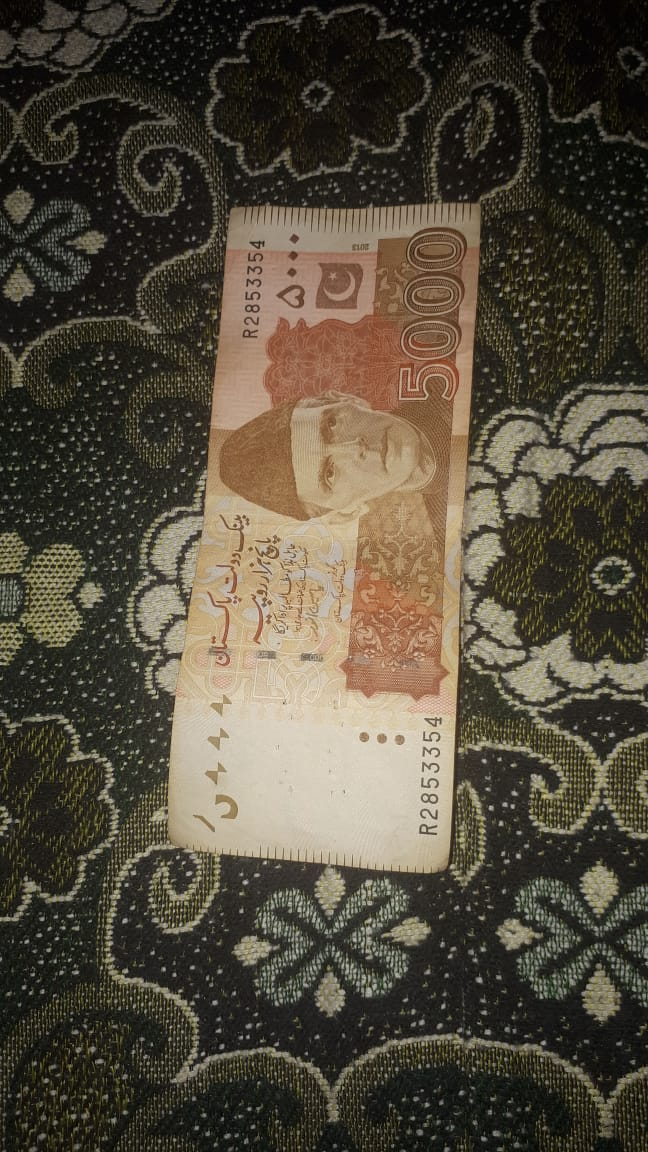5000 rupee: (182, 191, 481, 897)
